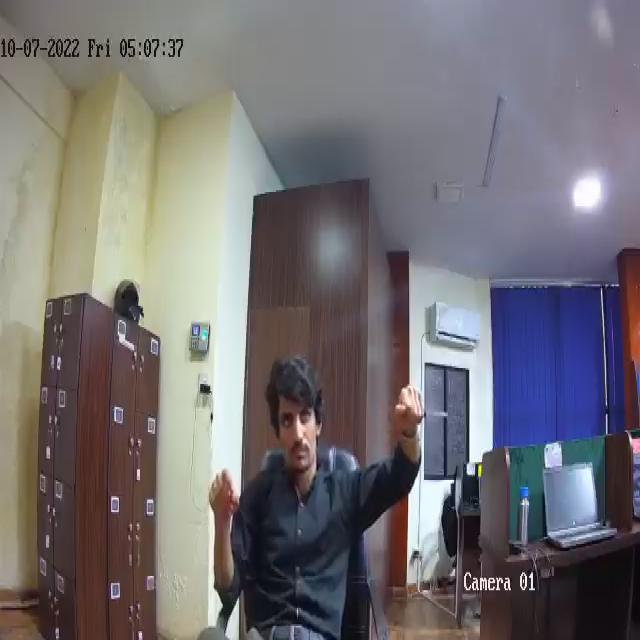Knife: (400, 403, 449, 425)
